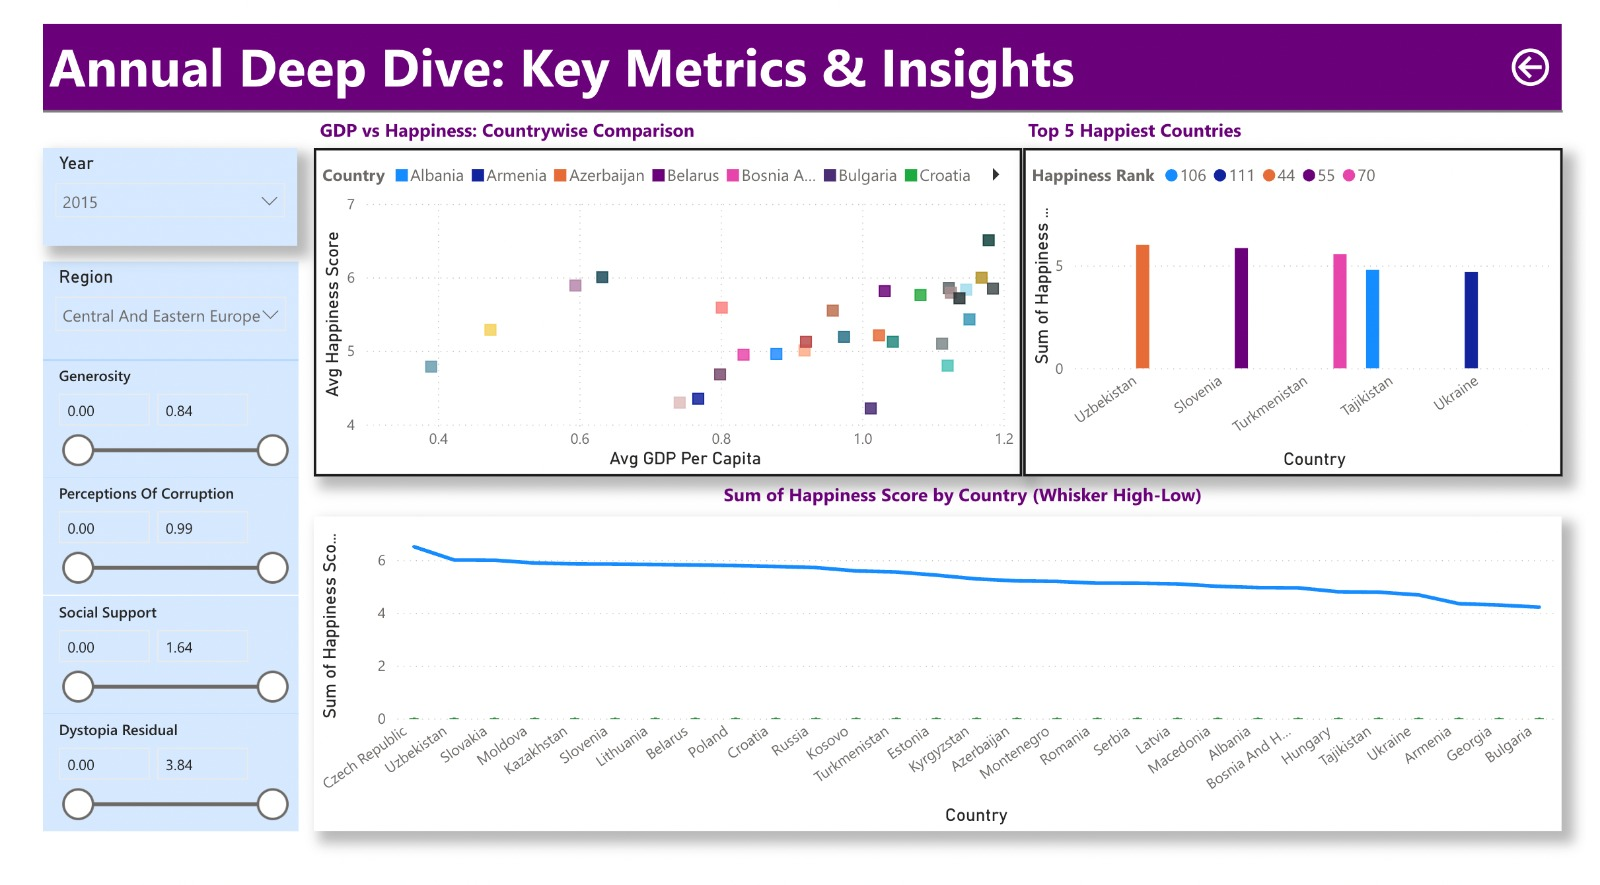

What the dashboard file says about the page in this screenshot:
{"tool":"powerbi","page":{"name":"AnnualDeep Dive","canvas":[1280,720],"ordinal":2},"visuals":[{"type":"slicer","fields":{"Values":["Master_Data.Year"]},"box":[23.8,129.7,207,79.7],"z":0},{"type":"scatterChart","fields":{"X":["Master_Data.Avg GDP Per Capita"],"Y":["Master_Data.Avg Happiness Score"],"Series":["Master_Data.Country"]},"box":[244.6,130.1,576.4,267.4],"z":1000},{"type":"clusteredColumnChart","title":"Top 5 Happiest Countries","fields":{"Series":["Master_Data.Happiness Rank"],"Category":["Master_Data.Country"],"Y":["Sum(Master_Data.Happiness Score)"]},"box":[822,129.7,439,267.7],"z":2000},{"type":"slicer","fields":{"Values":["Master_Data.Region"]},"box":[23.4,222.6,207.8,81],"z":3000},{"type":"slicer","fields":{"Values":["Master_Data.Generosity"]},"box":[23.4,302.5,207.8,95.9],"z":4000},{"type":"slicer","fields":{"Values":["Master_Data.Perceptions Of Corruption"]},"box":[23.4,398.4,207.8,95.9],"z":5000},{"type":"slicer","fields":{"Values":["Master_Data.Social Support"]},"box":[23.4,494.3,207.8,95.9],"z":6000},{"type":"slicer","fields":{"Values":["Master_Data.Dystopia Residual"]},"box":[23.4,590.2,207.8,95.9],"z":7000},{"type":"lineChart","fields":{"Category":["Master_Data.Country"],"Y":["Sum(Master_Data.Happiness Score)"]},"box":[244.6,430.5,1015.4,256],"z":8000},{"type":"textbox","box":[264.4,397.2,1015.6,33.2],"z":9000},{"type":"textbox","box":[244.6,100.1,576.4,30],"z":10000},{"type":"textbox","box":[820.9,100.1,439.1,30],"z":11000},{"type":"textbox","box":[23.8,28.6,1236,71.4],"z":12000},{"type":"shape","box":[23.4,84.8,1237,30.7],"z":13000},{"type":"actionButton","box":[1213.6,44.3,66.4,40.6],"z":14000}]}

Visuals, with their boxes in screenshot pixels (x1, y1, x2, y2), scaled from the page's 1280x720 canvas onto the 1600x885 screenshot:
slicer - Master_Data.Year: (x1=30, y1=159, x2=288, y2=257)
scatterChart - Master_Data.Avg GDP Per Capita x Master_Data.Avg Happiness Score: (x1=306, y1=160, x2=1026, y2=489)
"Top 5 Happiest Countries" clusteredColumnChart: (x1=1028, y1=159, x2=1576, y2=488)
slicer - Master_Data.Region: (x1=29, y1=274, x2=289, y2=373)
slicer - Master_Data.Generosity: (x1=29, y1=372, x2=289, y2=490)
slicer - Master_Data.Perceptions Of Corruption: (x1=29, y1=490, x2=289, y2=608)
slicer - Master_Data.Social Support: (x1=29, y1=608, x2=289, y2=725)
slicer - Master_Data.Dystopia Residual: (x1=29, y1=725, x2=289, y2=843)
lineChart - Master_Data.Country x Sum(Master_Data.Happiness Score): (x1=306, y1=529, x2=1575, y2=844)
textbox: (x1=330, y1=488, x2=1599, y2=529)
textbox: (x1=306, y1=123, x2=1026, y2=160)
textbox: (x1=1026, y1=123, x2=1575, y2=160)
textbox: (x1=30, y1=35, x2=1575, y2=123)
shape: (x1=29, y1=104, x2=1576, y2=142)
actionButton: (x1=1517, y1=54, x2=1599, y2=104)
